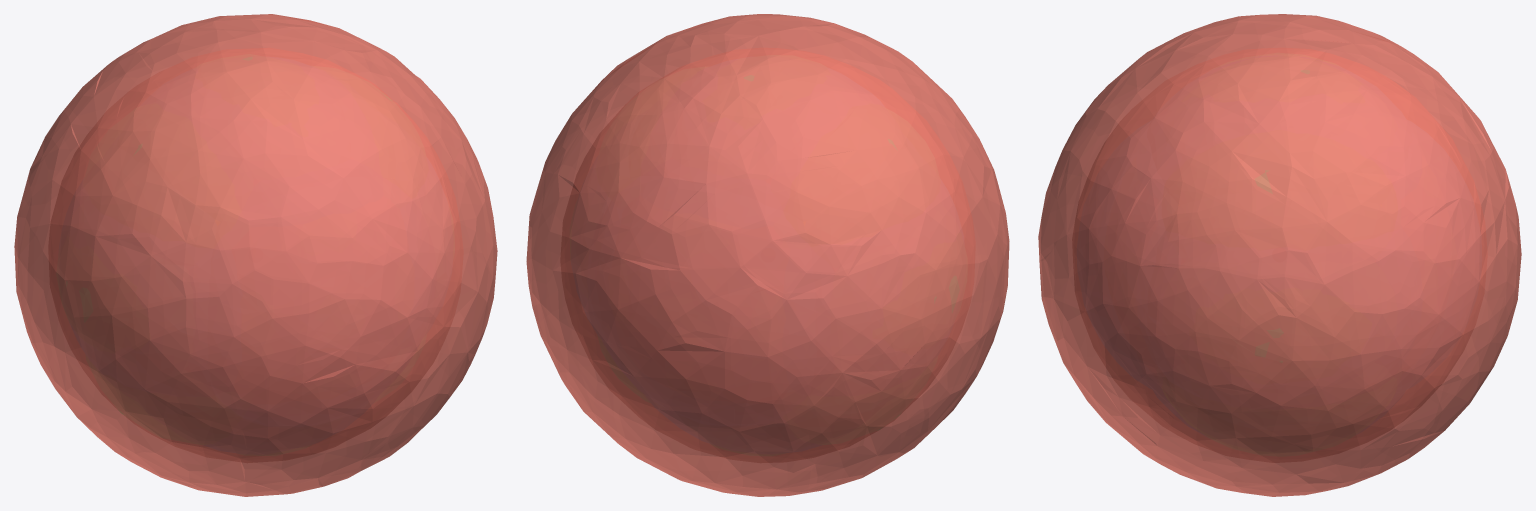
The model's file is orbital.glb.
The picture shows the model from 3 angles, left to right: view 1: azimuth 30°, elevation 25°; view 2: azimuth 150°, elevation 25°; view 3: azimuth 270°, elevation 25°; orthographic projection.
Visible parts, largest first — view 1: Rf_n7_s_ml0_node, Rf_n6_s_ml0_node; view 2: Rf_n7_s_ml0_node, Rf_n6_s_ml0_node; view 3: Rf_n7_s_ml0_node, Rf_n6_s_ml0_node.
Part boxes in pixels (x1,y1,x2,y2): Rf_n7_s_ml0_node: [14, 14, 497, 496]; Rf_n6_s_ml0_node: [48, 48, 463, 462]; Rf_n7_s_ml0_node: [526, 14, 1009, 496]; Rf_n6_s_ml0_node: [560, 48, 975, 462]; Rf_n7_s_ml0_node: [1038, 14, 1521, 496]; Rf_n6_s_ml0_node: [1072, 48, 1487, 462].
Size of the model in its own units: 3.55 by 3.56 by 3.55.
